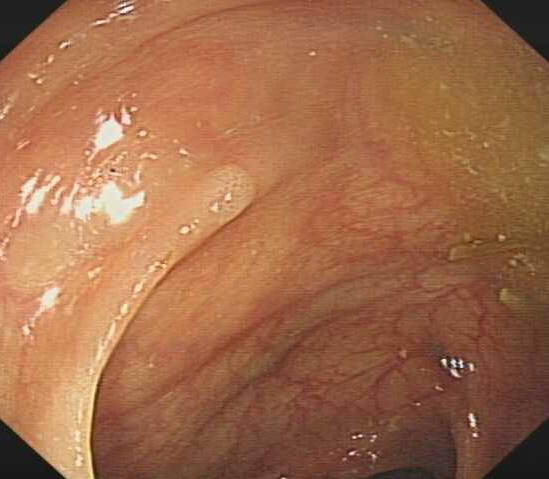others: (190, 162, 258, 221)
